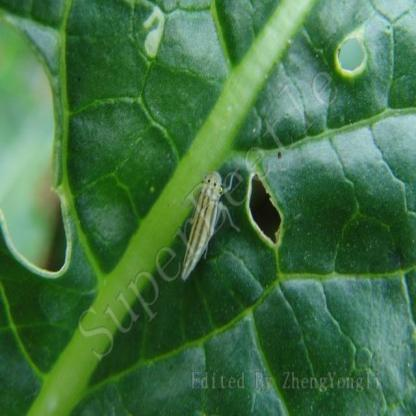Green-Leafhopper: (179, 169, 237, 285)
